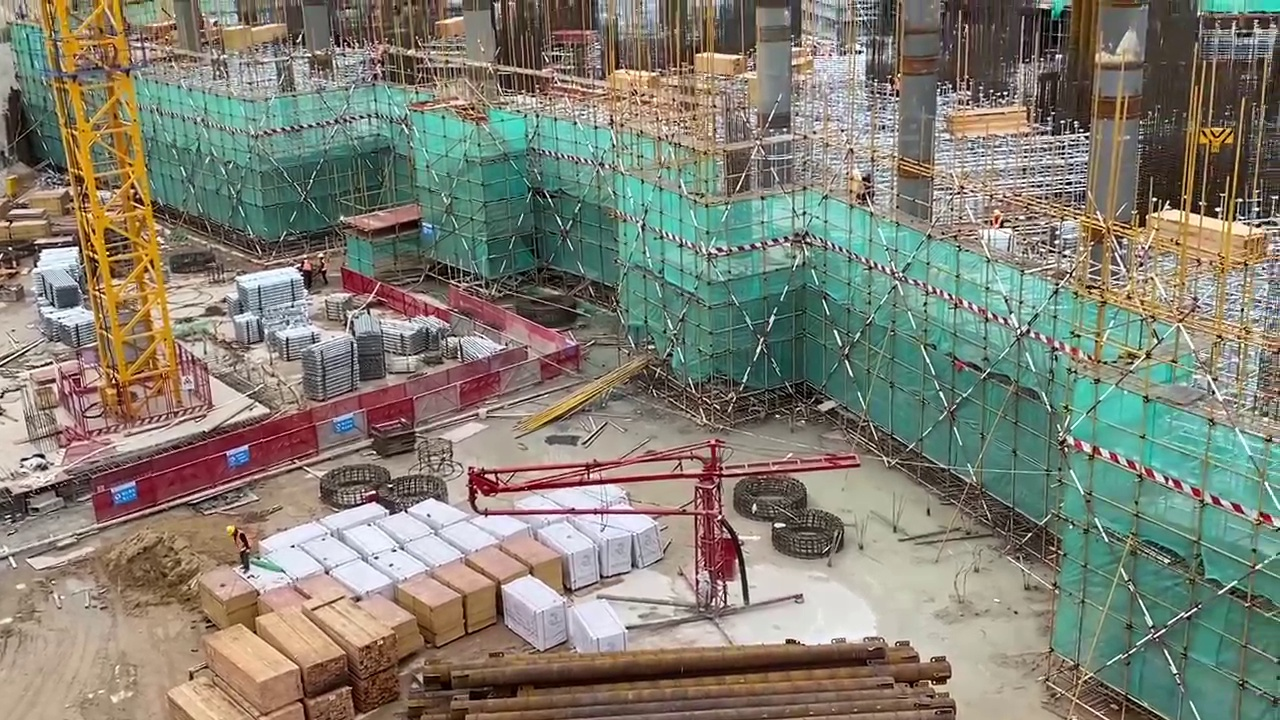board: (398, 533, 568, 659), (197, 568, 257, 630)
fence: (96, 448, 219, 524), (220, 402, 325, 475), (504, 309, 584, 387), (325, 389, 418, 446), (418, 364, 506, 419)
hook: (1195, 120, 1240, 157)
person: (228, 523, 256, 574), (298, 254, 313, 293), (316, 252, 328, 285)
rebar: (400, 650, 947, 720)
scaffold: (300, 333, 360, 402), (235, 268, 304, 309), (350, 314, 385, 382), (41, 306, 97, 347), (36, 270, 79, 310), (274, 326, 322, 360), (387, 317, 426, 356), (451, 332, 498, 358), (324, 294, 353, 325)
wood: (275, 605, 396, 720), (1152, 202, 1263, 264)
